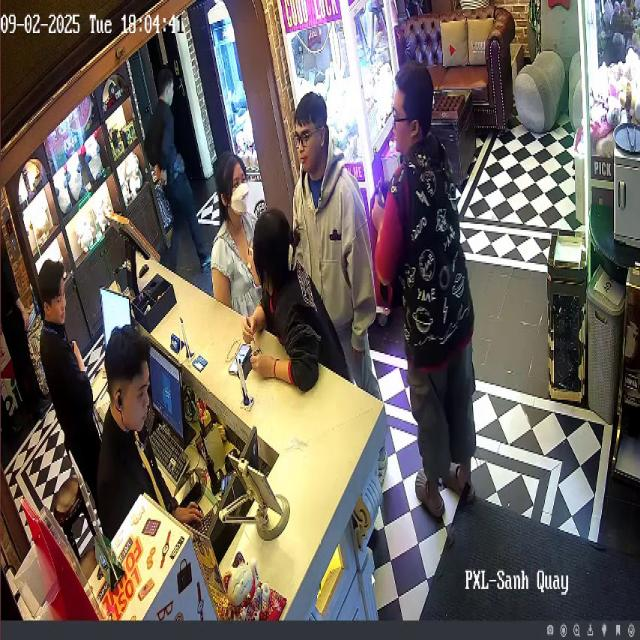khach: (372, 50, 497, 528), (299, 87, 396, 386), (250, 199, 342, 400), (215, 125, 274, 337)
nhan vien: (29, 251, 109, 511), (132, 62, 213, 274), (79, 300, 149, 522), (0, 165, 47, 397)
